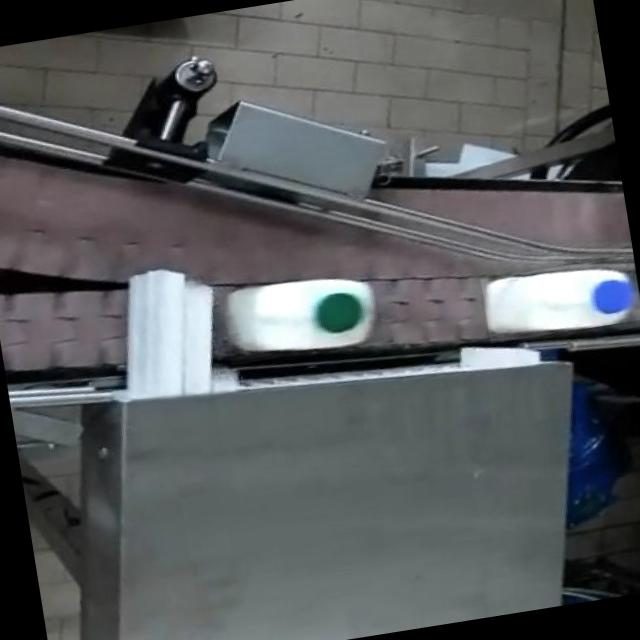milk: (471, 243, 640, 354), (230, 270, 382, 370)
